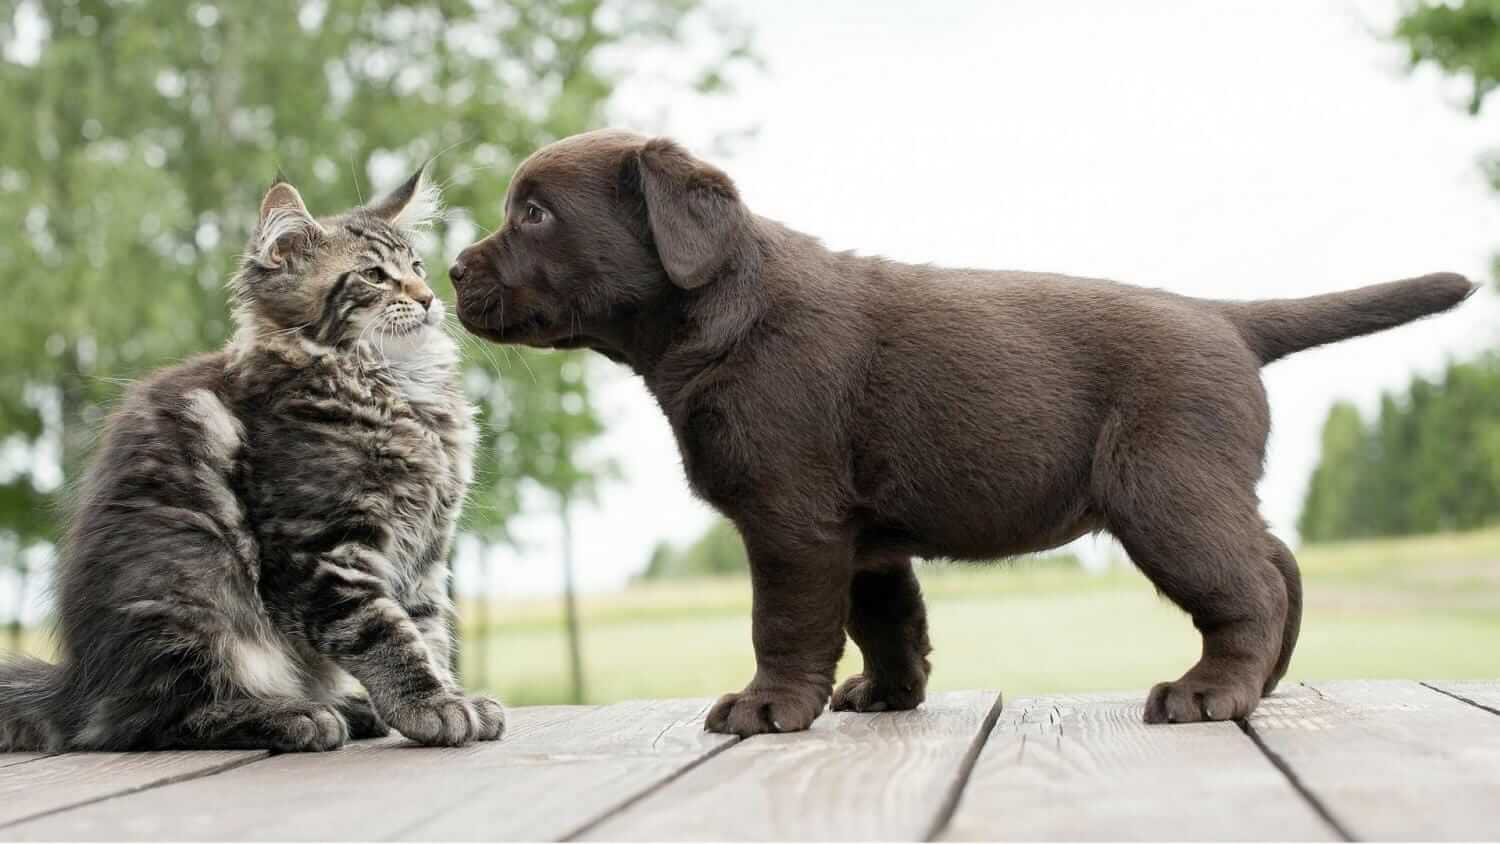cat: (62, 165, 510, 748)
dog: (444, 109, 1477, 735)
